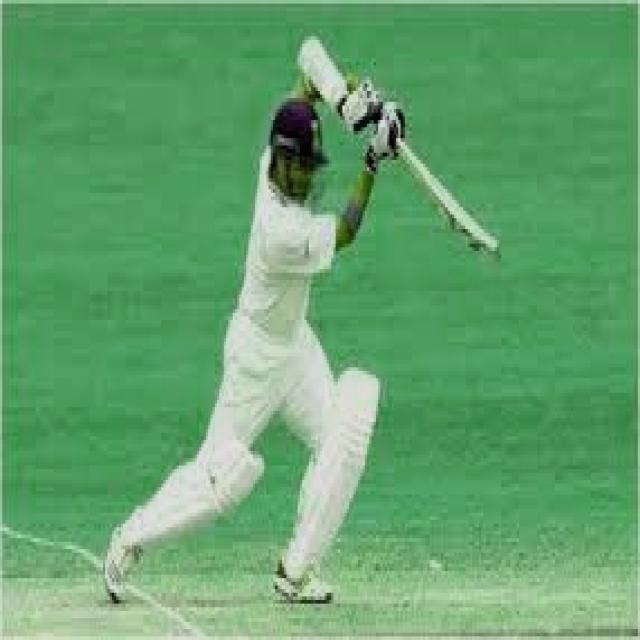bat: (400, 146, 504, 267)
toe: (489, 240, 497, 266)
